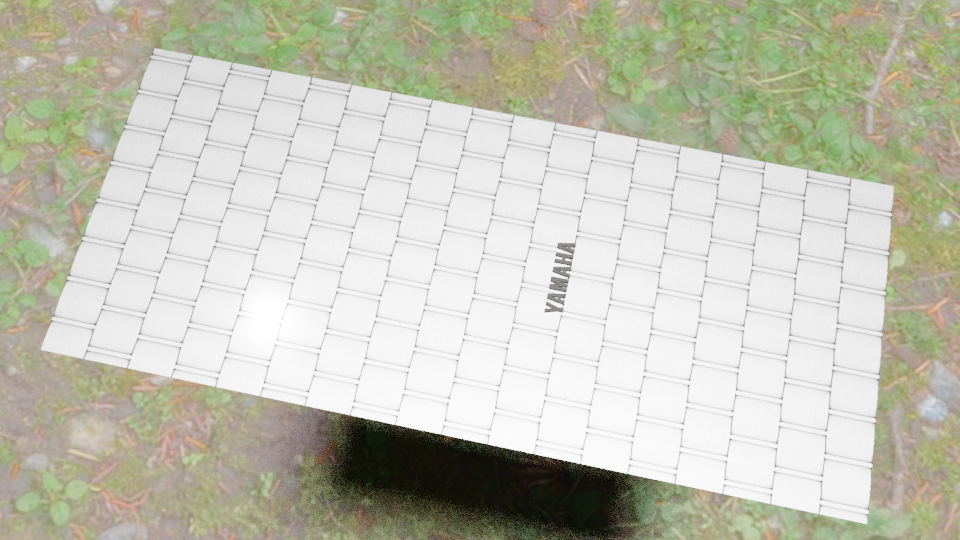yamaha_letters: (543, 242, 576, 312)
